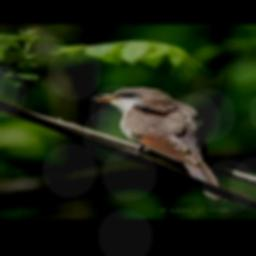Cuckoo: (90, 87, 226, 202)
